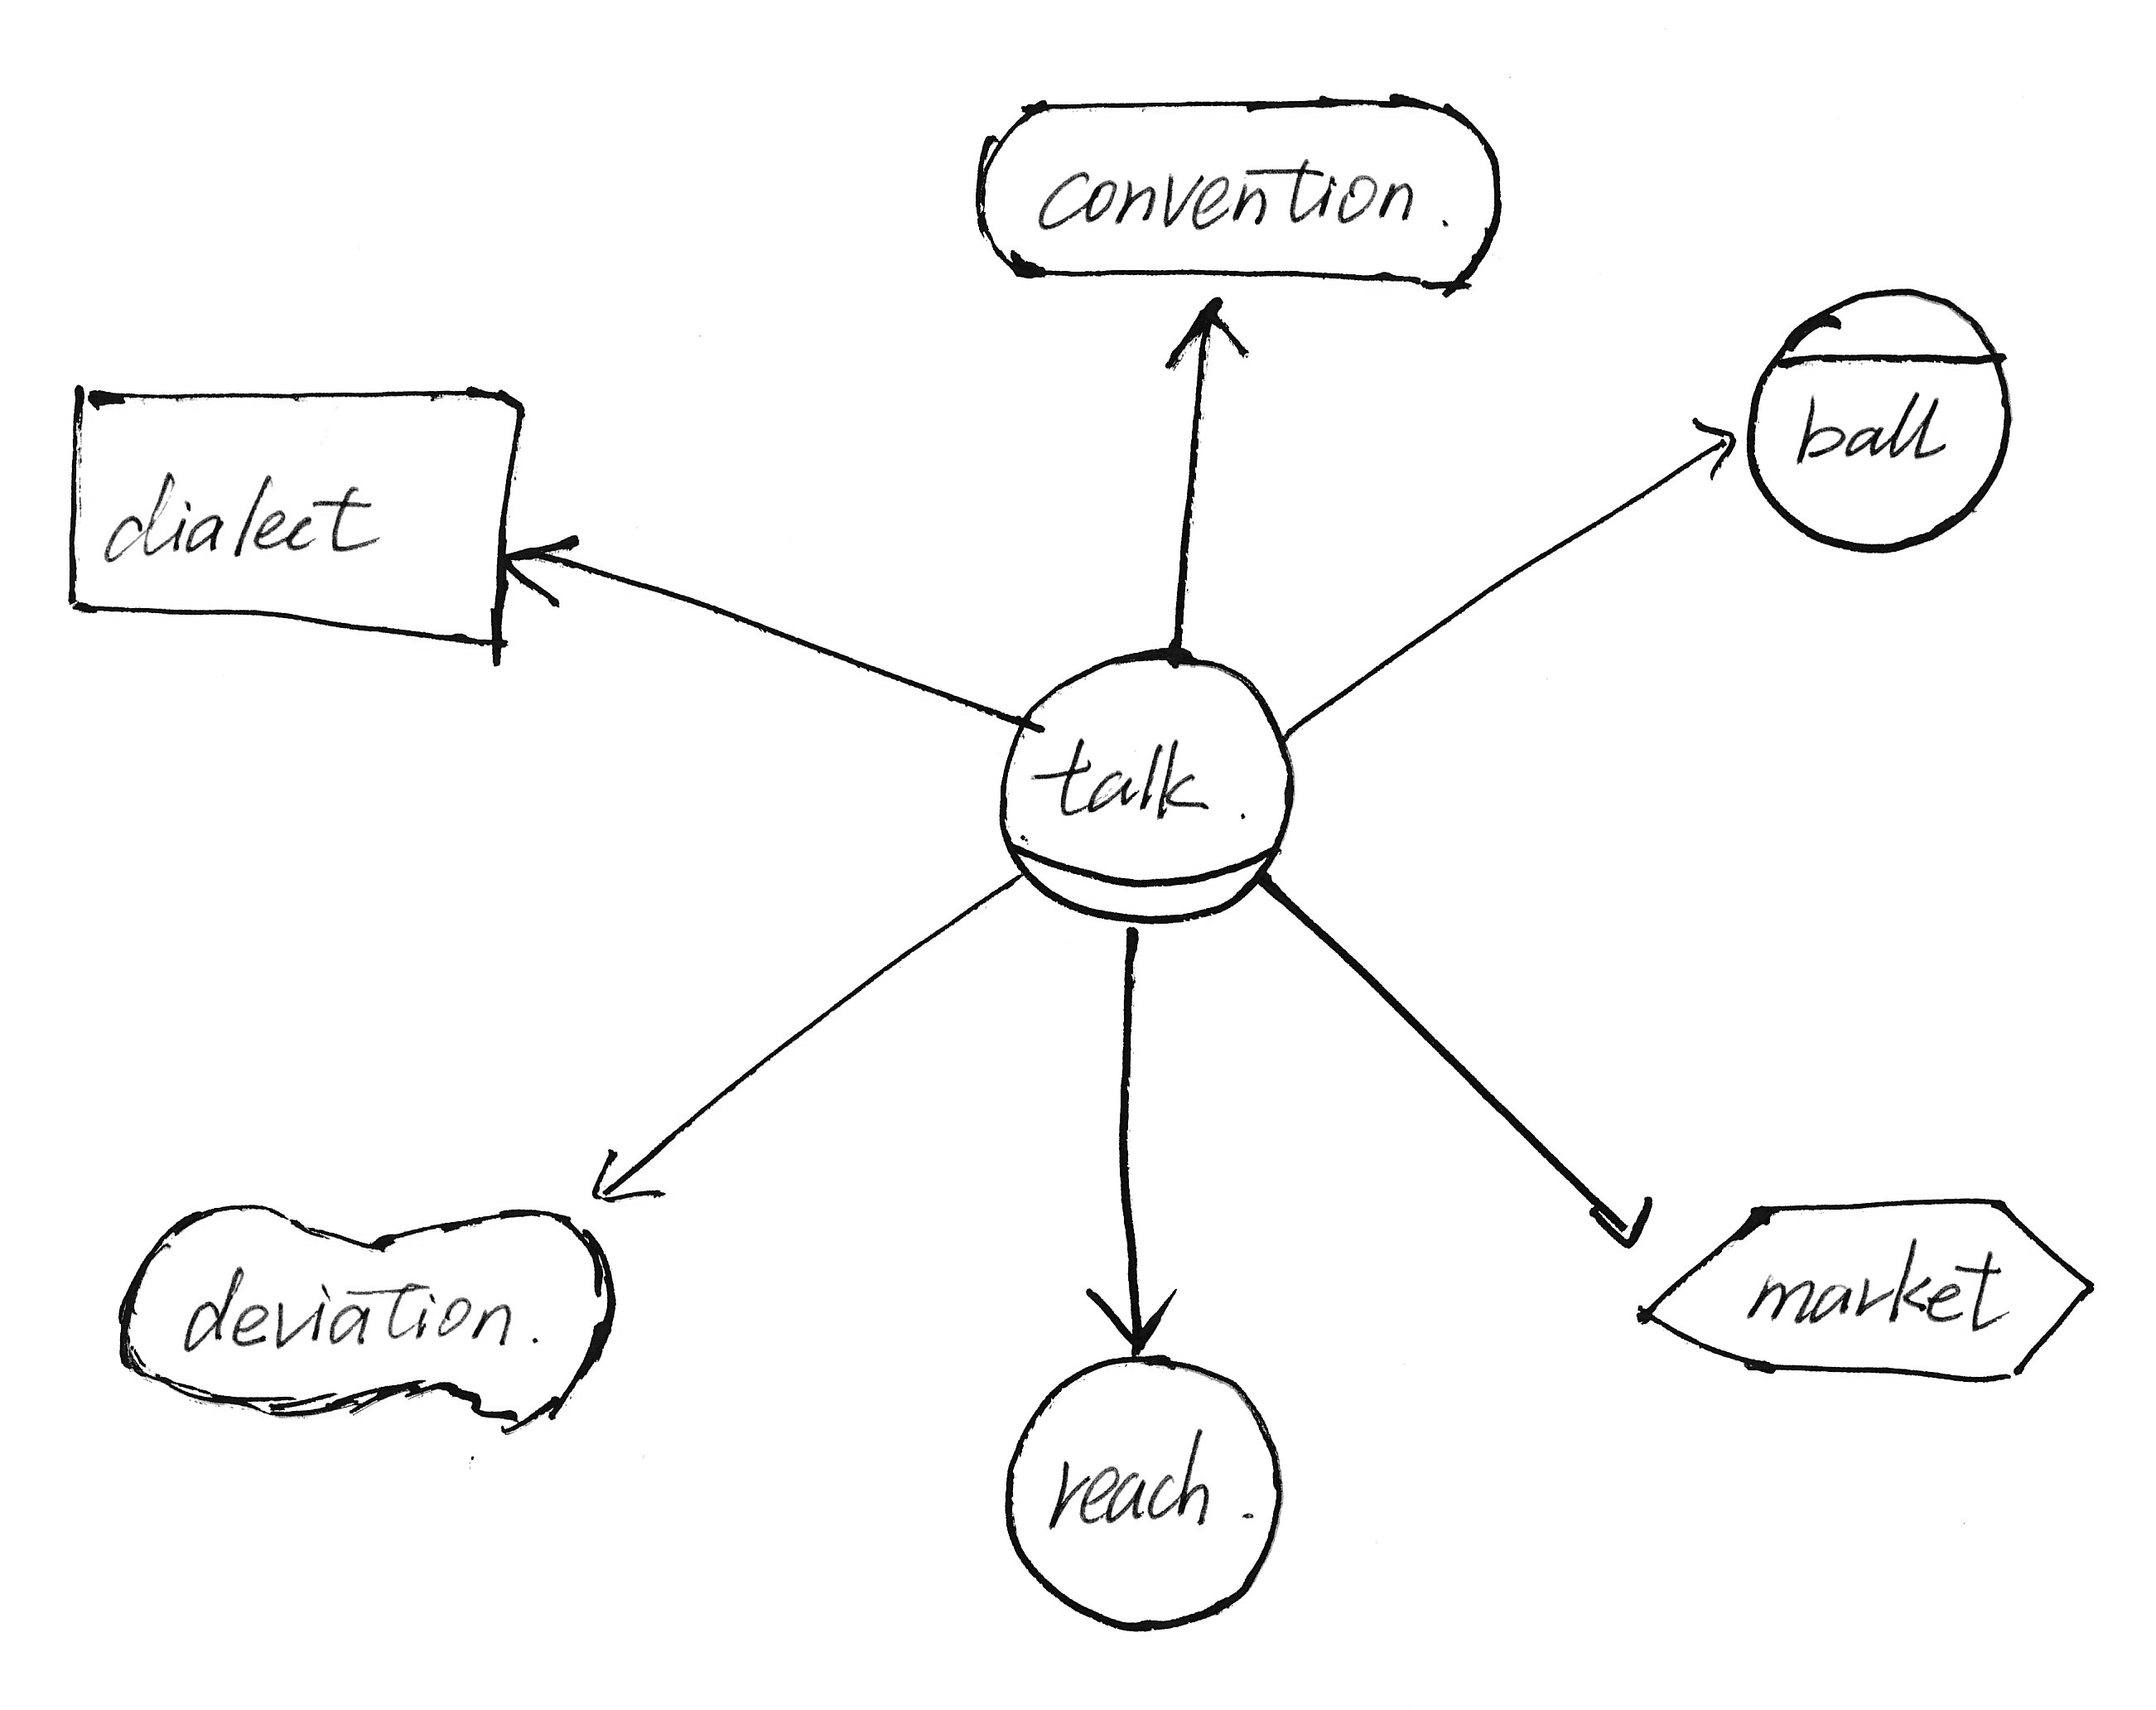actor: (992, 1335, 1300, 1642)
agent: (1738, 273, 2028, 562)
arrow: (1076, 1271, 1192, 1362), (1164, 287, 1253, 385), (486, 525, 591, 604), (1582, 1178, 1668, 1269), (1680, 404, 1755, 495), (586, 1136, 665, 1222)
goal: (964, 82, 1517, 310)
quality: (91, 1183, 635, 1447)
resource: (49, 366, 537, 672)
role: (976, 634, 1311, 931)
task: (1613, 1183, 2105, 1404)
